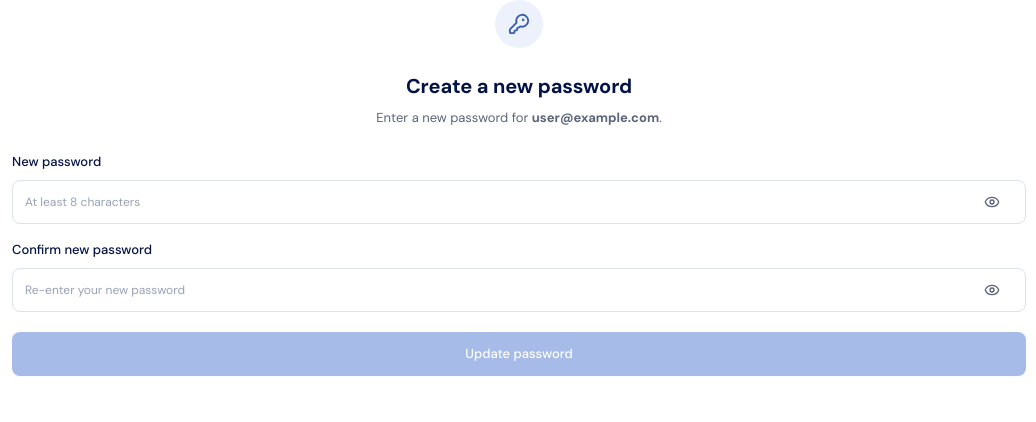
Test: ResetPasswordPage › shows an inline error when passwords do not match
expect the text "user@example.com" is shown: met, box [532,109,659,126]
Type "StrongPass1!" into the password field labelled "New password" at point(519, 202), box [12,180,1026,224]
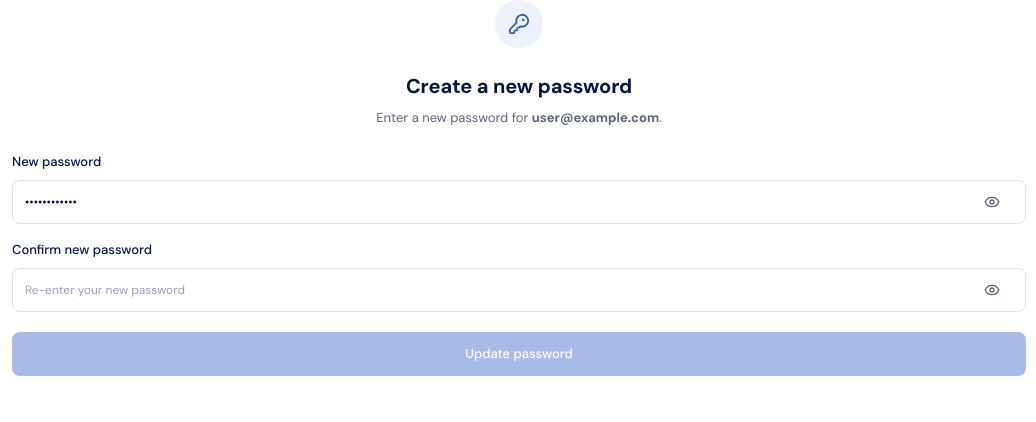
Type "DifferentPass1!" into the password field labelled "Confirm new password" at point(519, 290), box [12,268,1026,312]
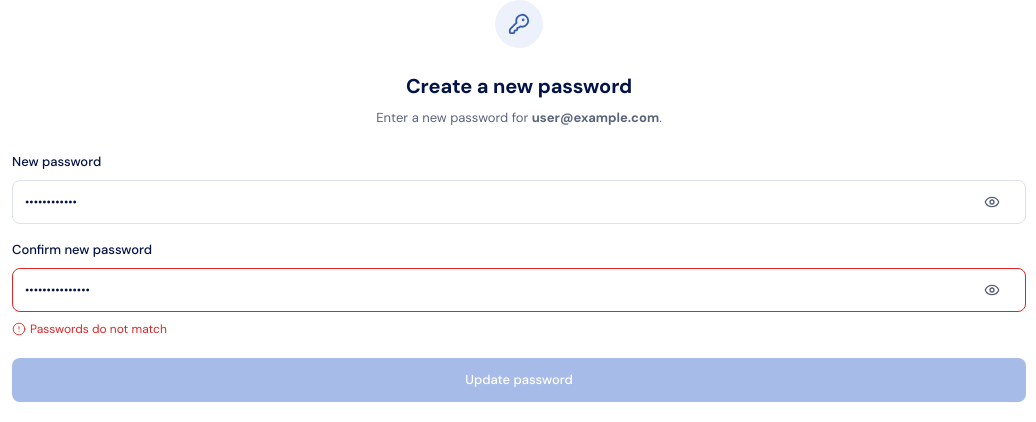
expect the button "Update password" is disabled: met, box [12,358,1026,402]
expect the text "Passwords do not match" is shown: met, box [12,321,167,337]
Type "StrongPass1!" into the password field labelled "Confirm new password" at point(519, 290), box [12,268,1026,312]
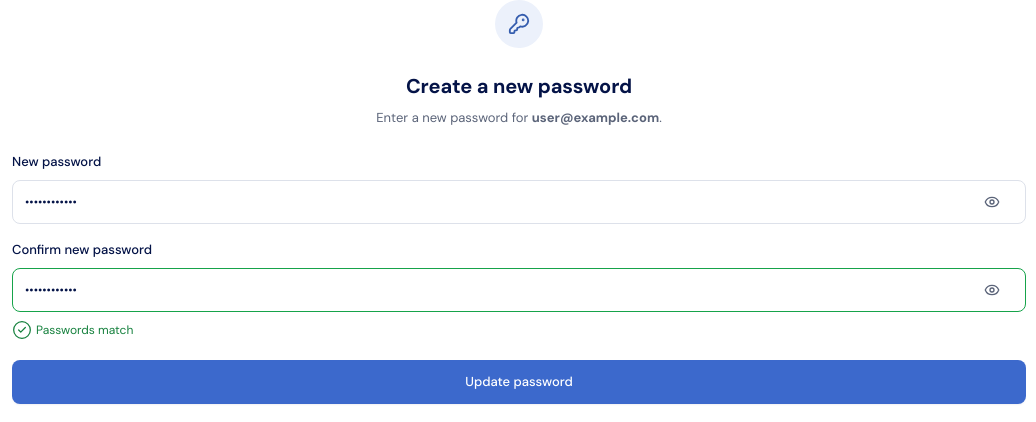
expect the text "Passwords do not match" is gone: met
expect the button "Update password" is enabled: met, box [12,360,1026,404]
